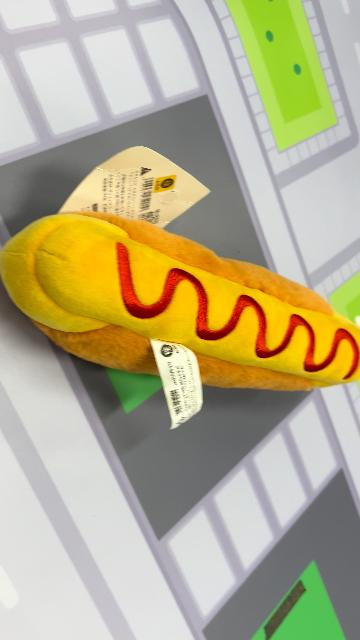hotdog: (1, 210, 358, 394)
